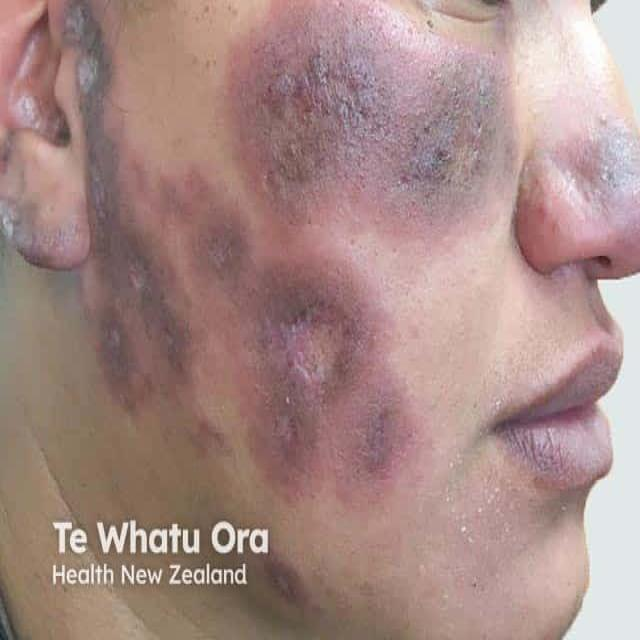lupus-detected: (167, 232, 430, 614), (3, 0, 165, 454), (228, 19, 527, 232), (533, 107, 640, 285)
